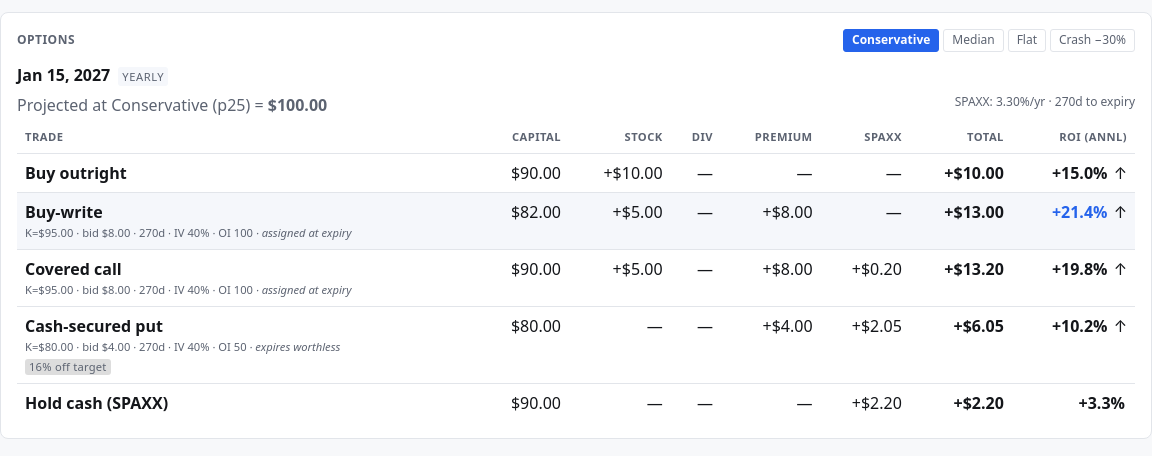
Test: <OptionsPanel /> — crash scenario toggle › renders the Crash button and re-projects at 70% of current on click
What coordinates should you click on to do the following:
click the button "Crash −30%"
I would click on:
 (1092, 40)
Its box is [1050,29,1135,52].
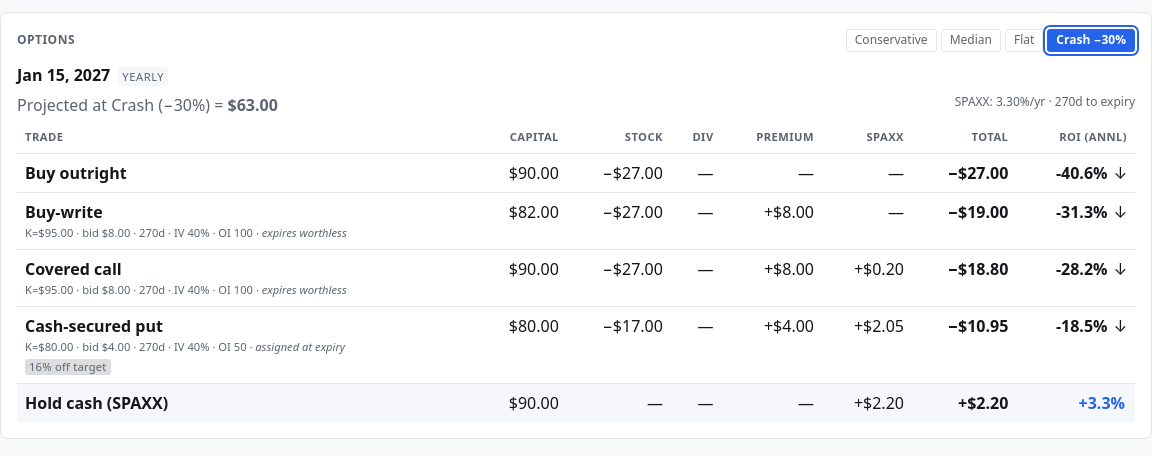
Expected: the text "$63.00" is shown, [228,94,278,116]
